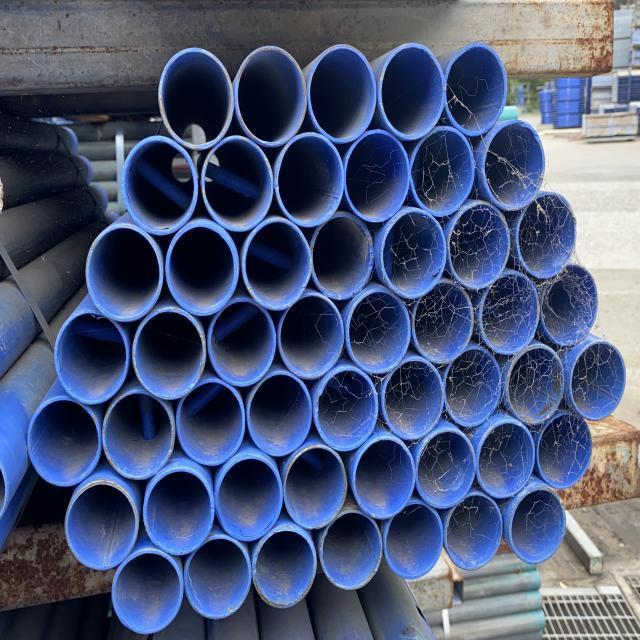pipe: (118, 134, 199, 239), (157, 44, 234, 152), (85, 225, 165, 326), (236, 44, 308, 153), (63, 478, 141, 577), (307, 39, 378, 147), (165, 220, 240, 320), (130, 308, 207, 405), (55, 311, 130, 410), (27, 394, 102, 491), (202, 137, 275, 236), (100, 389, 176, 483), (378, 40, 446, 144), (242, 215, 313, 314), (142, 466, 217, 559), (276, 133, 345, 232), (481, 114, 549, 212), (112, 549, 186, 639), (175, 379, 247, 471), (207, 298, 278, 391), (444, 41, 513, 136), (216, 452, 286, 544), (184, 534, 254, 625), (345, 285, 413, 378), (379, 211, 447, 304), (345, 129, 410, 225), (411, 124, 476, 219), (278, 291, 345, 383), (282, 443, 350, 532), (448, 200, 513, 293), (315, 364, 381, 455), (246, 372, 314, 460), (515, 191, 579, 284), (351, 433, 417, 522), (311, 212, 376, 302), (380, 356, 446, 444), (568, 338, 632, 426), (416, 424, 479, 513), (252, 526, 317, 612), (412, 281, 477, 367), (320, 508, 385, 593), (507, 486, 571, 571), (480, 274, 543, 360), (541, 263, 601, 350), (476, 418, 534, 505), (444, 346, 503, 431), (383, 502, 444, 584), (447, 491, 507, 574), (506, 343, 565, 427), (538, 410, 596, 493)
